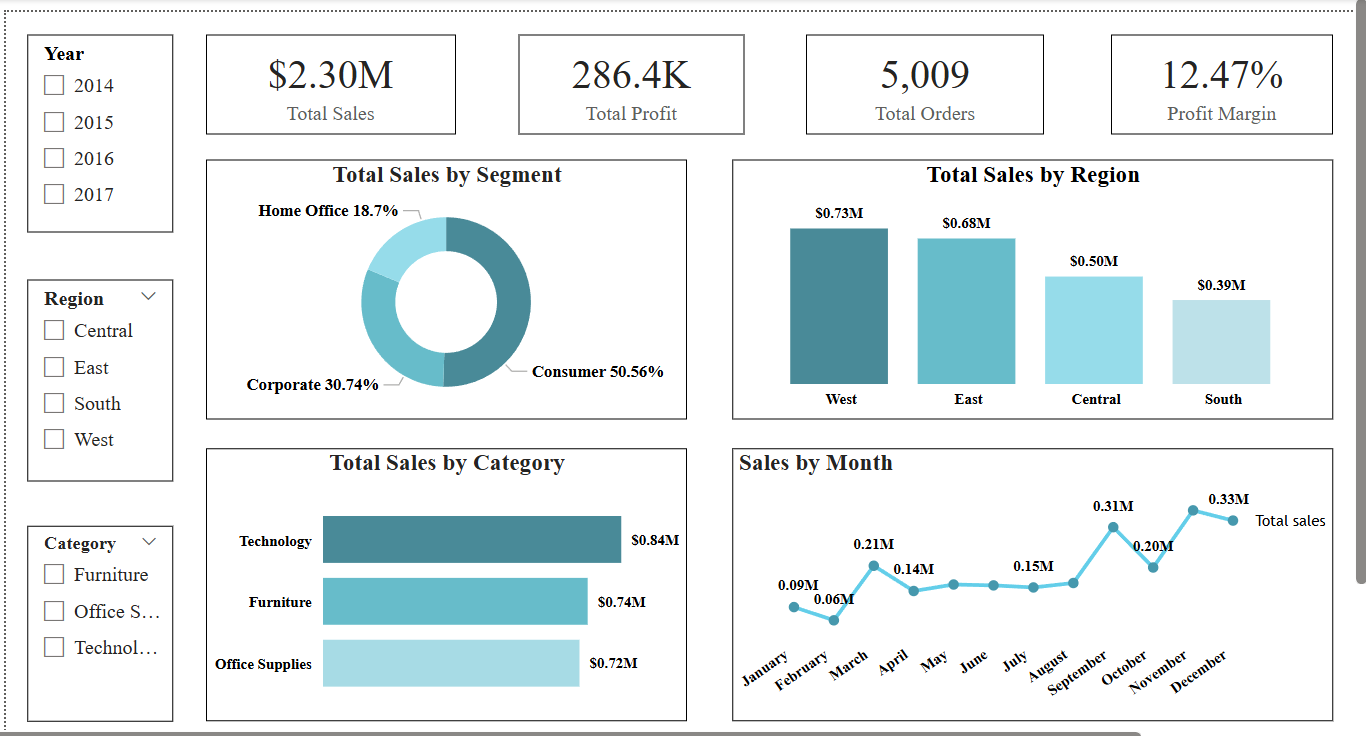

What the dashboard file says about the page in this screenshot:
{"tool":"powerbi","page":{"name":" Sales Overview","canvas":[1280,720],"ordinal":0},"visuals":[{"type":"card","fields":{"Values":["All Measures.Total Sales"]},"box":[160,18,200,80],"z":0},{"type":"card","fields":{"Values":["All Measures.Total Profit"]},"box":[410,18,181,80],"z":1000},{"type":"card","fields":{"Values":["All Measures.Total Orders"]},"box":[640,18,191,80],"z":2000},{"type":"card","fields":{"Values":["All Measures.Profit Margine_%"]},"box":[884,18,178,80],"z":3000},{"type":"barChart","fields":{"Category":["Orders.Category"],"Y":["All Measures.Total Sales"]},"box":[160,349,385,219],"z":4000},{"type":"lineChart","title":"Sales by Month","fields":{"Y":["Sum(Orders.Sales)"],"Category":["Date Table.Date.Variation.Date Hierarchy.Month"]},"box":[581,349,481,219],"z":5000},{"type":"columnChart","fields":{"Category":["Orders.Region"],"Y":["All Measures.Total Sales"]},"box":[581,118,481,208],"z":6000},{"type":"donutChart","fields":{"Category":["Orders.Segment"],"Y":["All Measures.Total Sales"]},"box":[160,118,385,208],"z":7000},{"type":"slicer","fields":{"Values":["Date Table.Year"]},"box":[17,18,117,159],"z":8000},{"type":"slicer","fields":{"Values":["Orders.Region"]},"box":[17,214,117,162],"z":9000},{"type":"slicer","fields":{"Values":["Orders.Category"]},"box":[17,411,117,157],"z":10000}]}

Visuals, with their boxes on the page's 1280x720 design canvas (x1, y1, x2, y2). These are canvas units, not pixel positions in the 1366x736 screenshot, which may show the page scaled, cropped or inside an application window:
card - All Measures.Total Sales: (160,18,360,98)
card - All Measures.Total Profit: (410,18,591,98)
card - All Measures.Total Orders: (640,18,831,98)
card - All Measures.Profit Margine_%: (884,18,1062,98)
barChart - Orders.Category x All Measures.Total Sales: (160,349,545,568)
"Sales by Month" lineChart: (581,349,1062,568)
columnChart - Orders.Region x All Measures.Total Sales: (581,118,1062,326)
donutChart - Orders.Segment x All Measures.Total Sales: (160,118,545,326)
slicer - Date Table.Year: (17,18,134,177)
slicer - Orders.Region: (17,214,134,376)
slicer - Orders.Category: (17,411,134,568)
